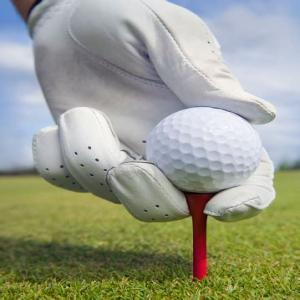Golf: (150, 106, 260, 196)
